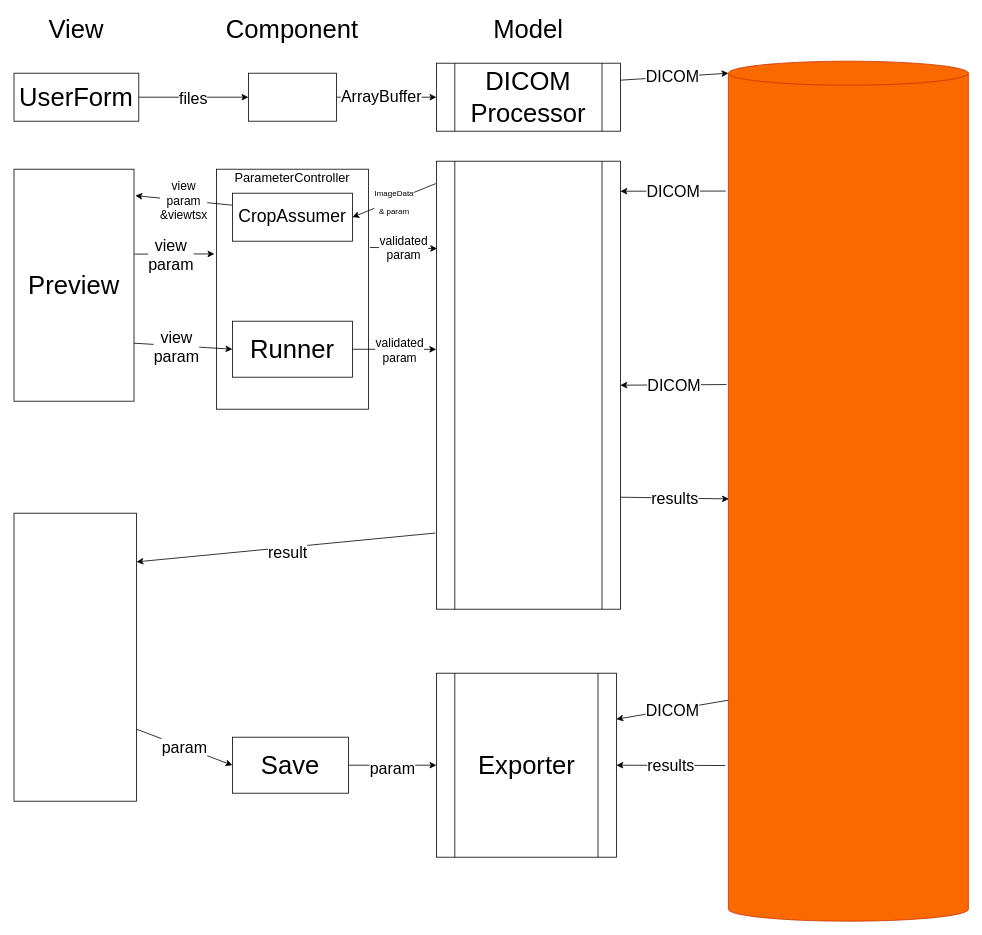
Image size: 982x935. Some labels were removed from this diagram. The shapes that lost their labels are listed below. From the top down, each one's box as (x1, y1, x2, y2) in pixels, then its label:
(248, 72, 336, 121): Input
(436, 160, 620, 609): Image Processor
(728, 60, 968, 921): DataBase
(13, 512, 136, 801): Result Preview
